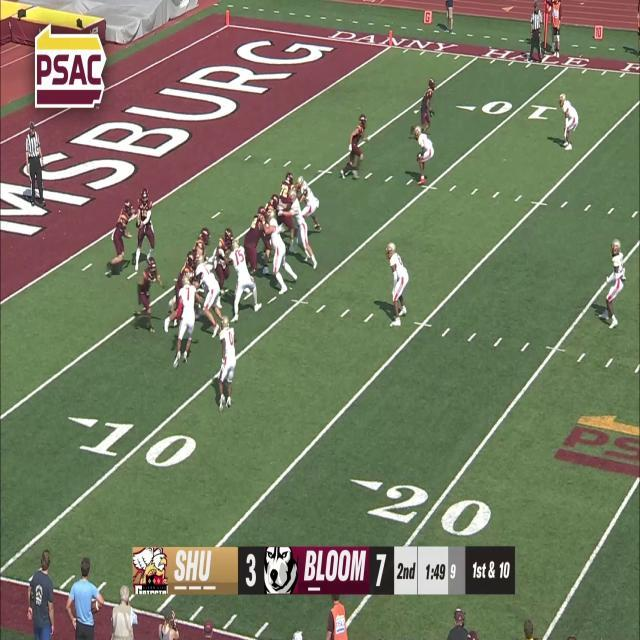football: (135, 219, 142, 229)
